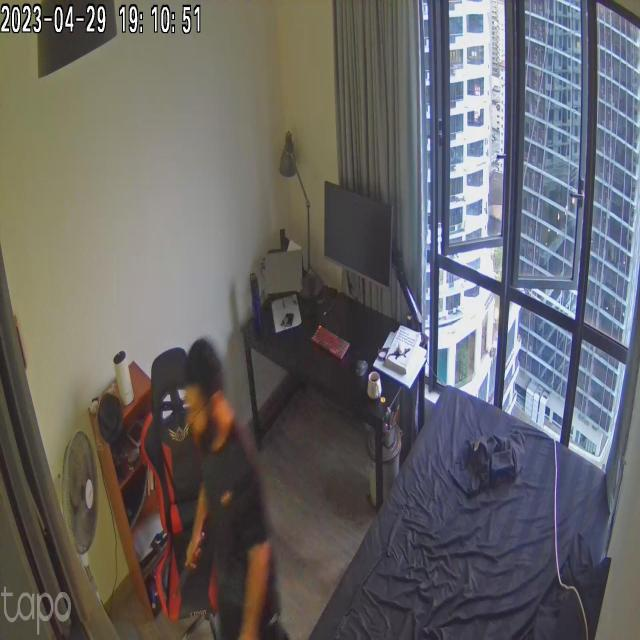Knife: (165, 538, 205, 594)
